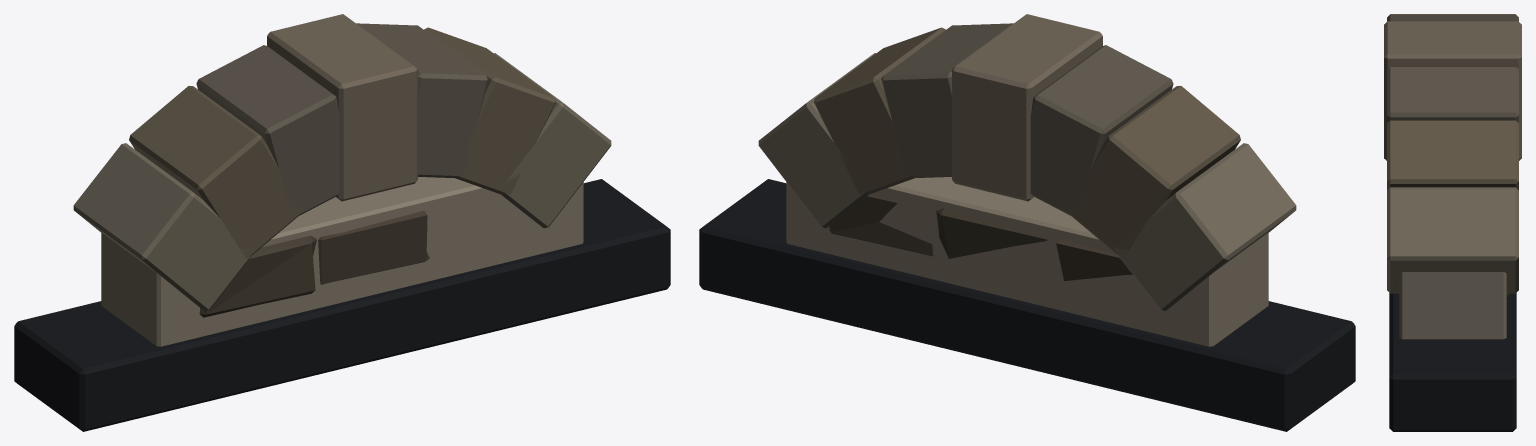
The model's file is mod_relieving_arch_2m.glb.
3 views of the same model, side by side, from view 1: azimuth 30°, elevation 25°; view 2: azimuth 150°, elevation 25°; view 3: azimuth 270°, elevation 25° (orthographic). The views are drawn at different scales.
Parts seen in each view (by area): view 1: Mod_Relieving_Arch_2m; view 2: Mod_Relieving_Arch_2m; view 3: Mod_Relieving_Arch_2m.
Boxes of the visible parts, box(x1,y1,x2,y2) form: Mod_Relieving_Arch_2m: box(14, 14, 670, 431); Mod_Relieving_Arch_2m: box(699, 14, 1355, 431); Mod_Relieving_Arch_2m: box(1384, 14, 1521, 431).
Size of the model in its own units: 2.16 by 1 by 0.476.
